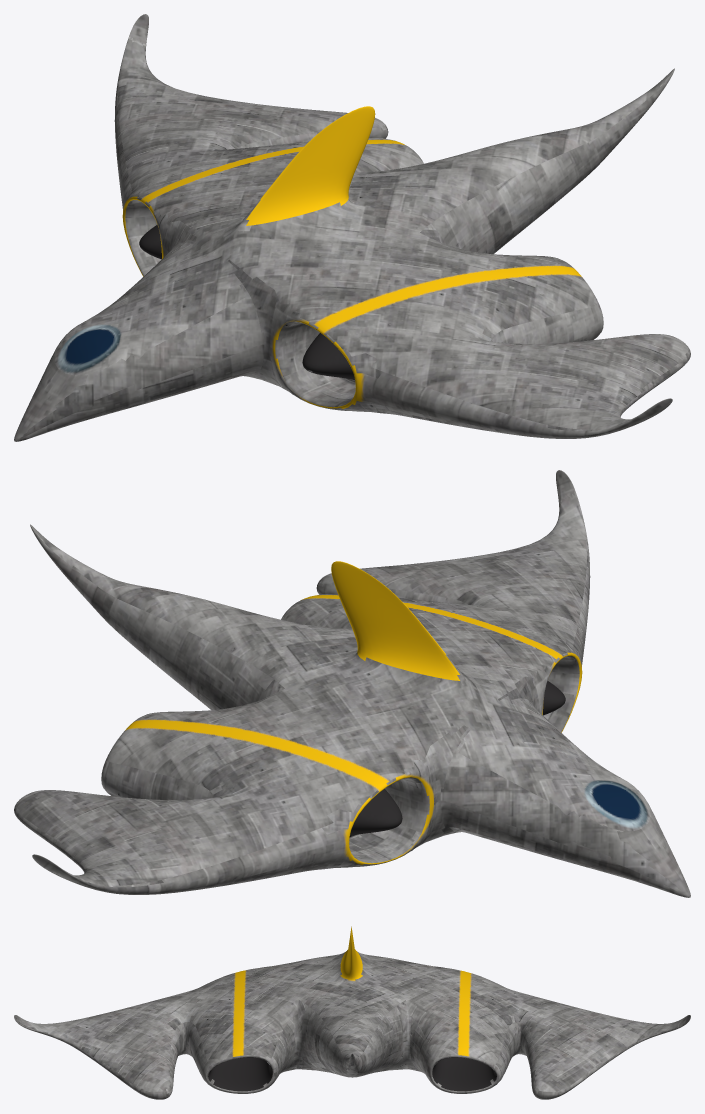
The model's file is statek OBJ zolty.obj.
3 views of the same model, one above another, from view 1: azimuth 30°, elevation 25°; view 2: azimuth 150°, elevation 25°; view 3: azimuth 270°, elevation 25° (orthographic). The views are drawn at different scales.
Visible parts, largest first — view 1: Box001; view 2: Box001; view 3: Box001.
Part boxes in pixels (bbox=[...]): Box001: bbox=[14, 14, 690, 441]; Box001: bbox=[14, 470, 690, 897]; Box001: bbox=[14, 926, 690, 1099].
Bounding box in the file's own units: 110 × 39.9 × 152.
